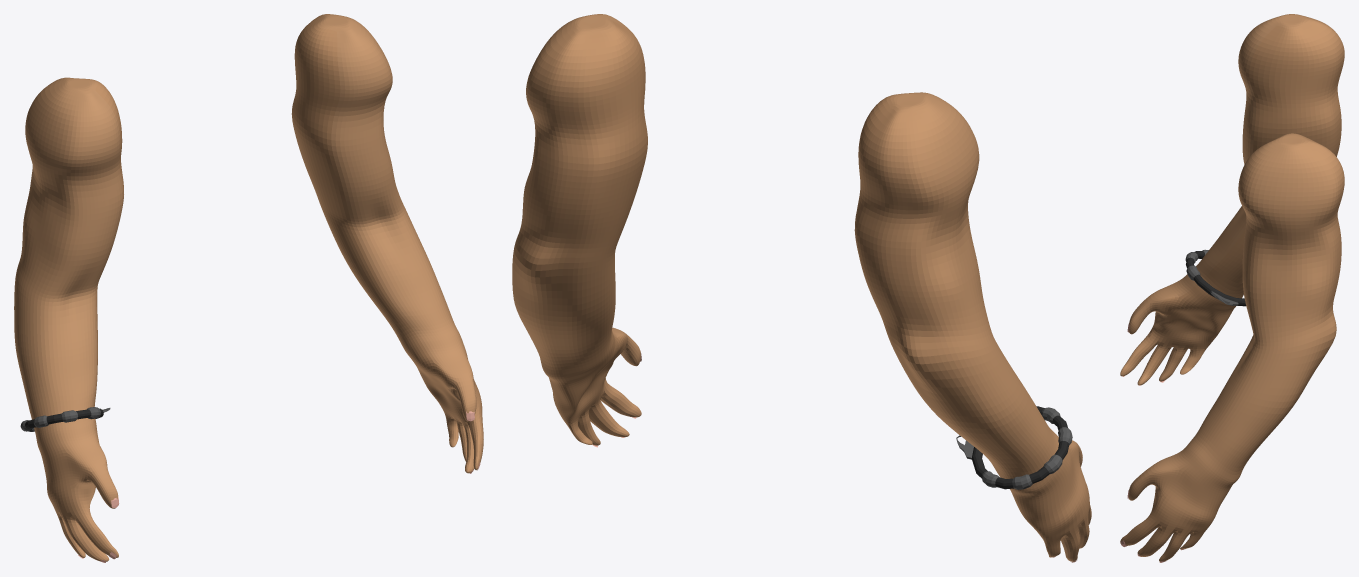
Rendered from Arms3DGame.fbx.
3 renders of one model, left to right at view 1: azimuth 30°, elevation 25°; view 2: azimuth 150°, elevation 25°; view 3: azimuth 270°, elevation 25°, orthographic. The views are drawn at different scales.
Visible parts, largest first — view 1: Plane.005, Plane.009, Torus; view 2: Plane.005, Plane.009, Torus; view 3: Plane.009, Plane.005, Torus.
Part boxes in pixels (box(x1,y1,x2,y2)): Plane.005: box(14, 77, 123, 562); Plane.009: box(291, 14, 483, 473); Torus: box(20, 407, 110, 431); Plane.005: box(854, 92, 1091, 562); Plane.009: box(512, 14, 647, 447); Torus: box(956, 406, 1072, 489); Plane.009: box(1120, 133, 1344, 562); Plane.005: box(1120, 14, 1344, 385); Torus: box(1185, 249, 1246, 306).
Bounding box in the file's own units: 253 × 231 × 120.
